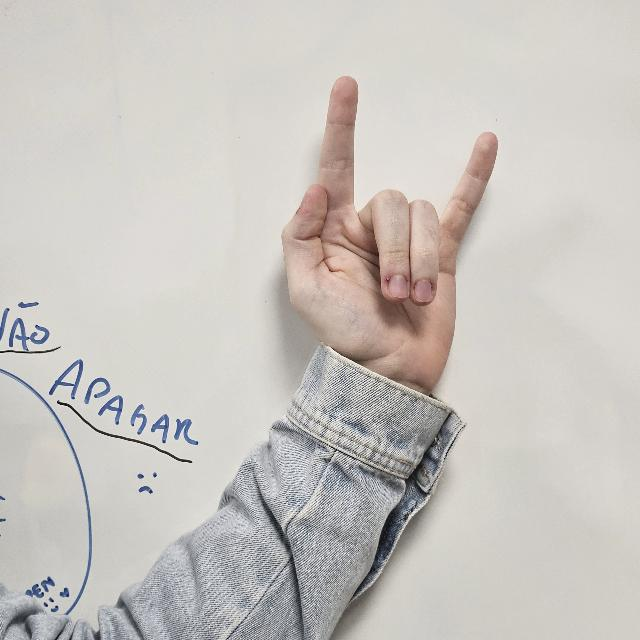L: (282, 73, 498, 410)
